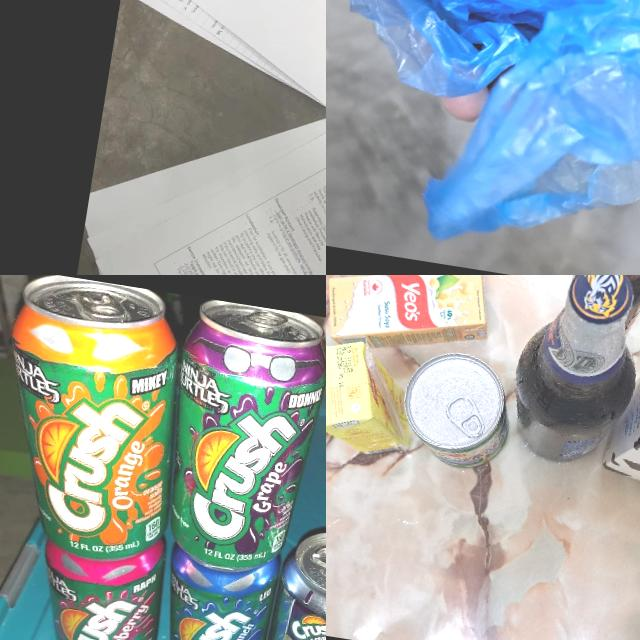aba de lata: (441, 385, 493, 439), (68, 288, 128, 322), (244, 304, 290, 330), (305, 542, 326, 575)
caixinha: (326, 275, 502, 356), (326, 330, 417, 469)
garrafa de vidro: (508, 275, 640, 478), (571, 275, 640, 344)
lata: (0, 275, 202, 567), (148, 295, 326, 582), (27, 519, 175, 640), (392, 344, 520, 476), (149, 530, 286, 640), (252, 520, 326, 640)
papel: (49, 0, 326, 275)
sacola plástica: (326, 0, 640, 275)
